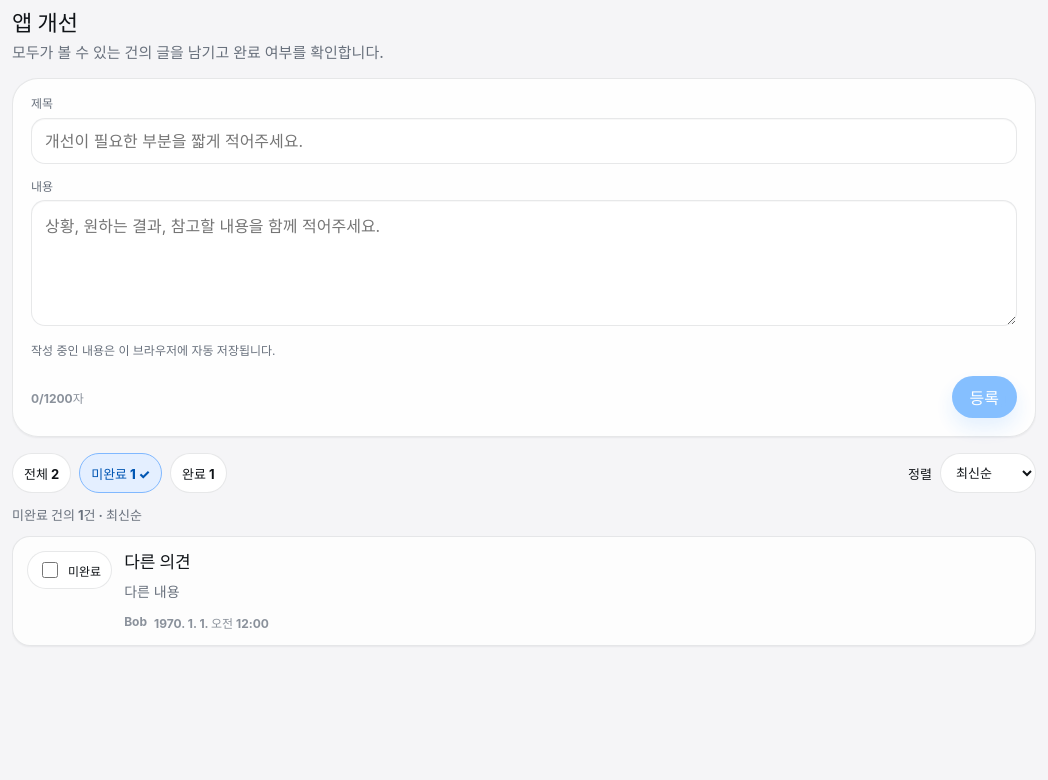
suggestion draft composer › keeps the draft after registration fails
Type "새 건의" into the field labelled "제목" at x=524, y=141, box [31,118,1017,164]
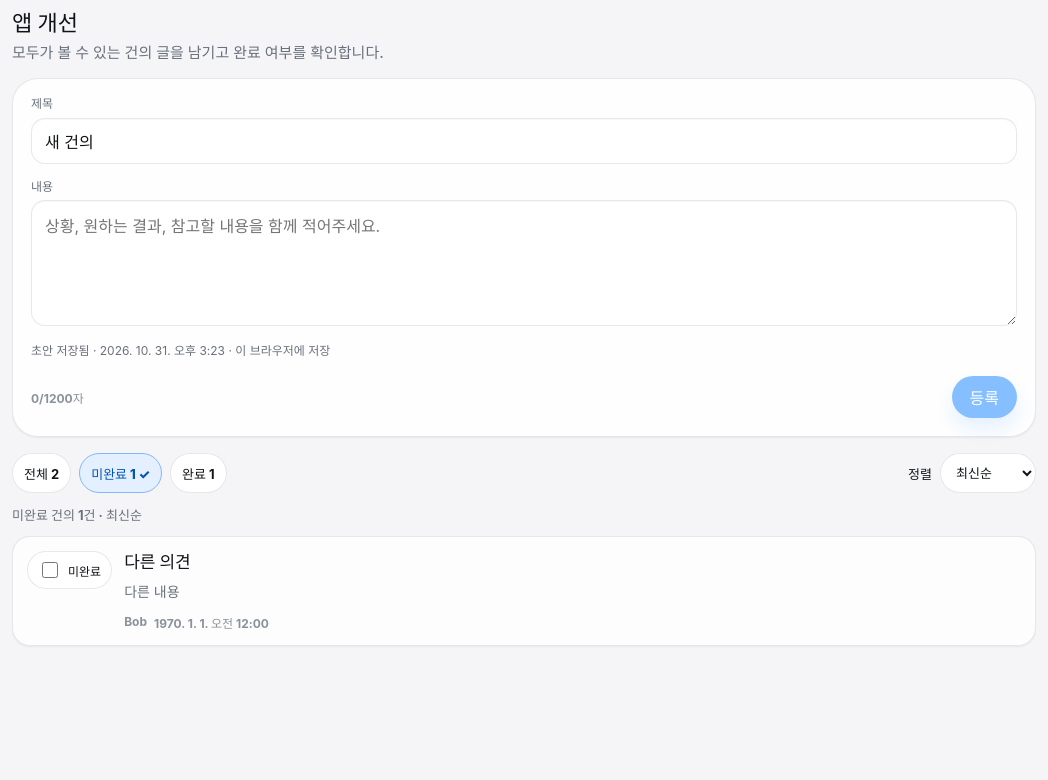
Type "새 내용" into the text box labelled "내용" at x=524, y=263, box [31,200,1017,326]
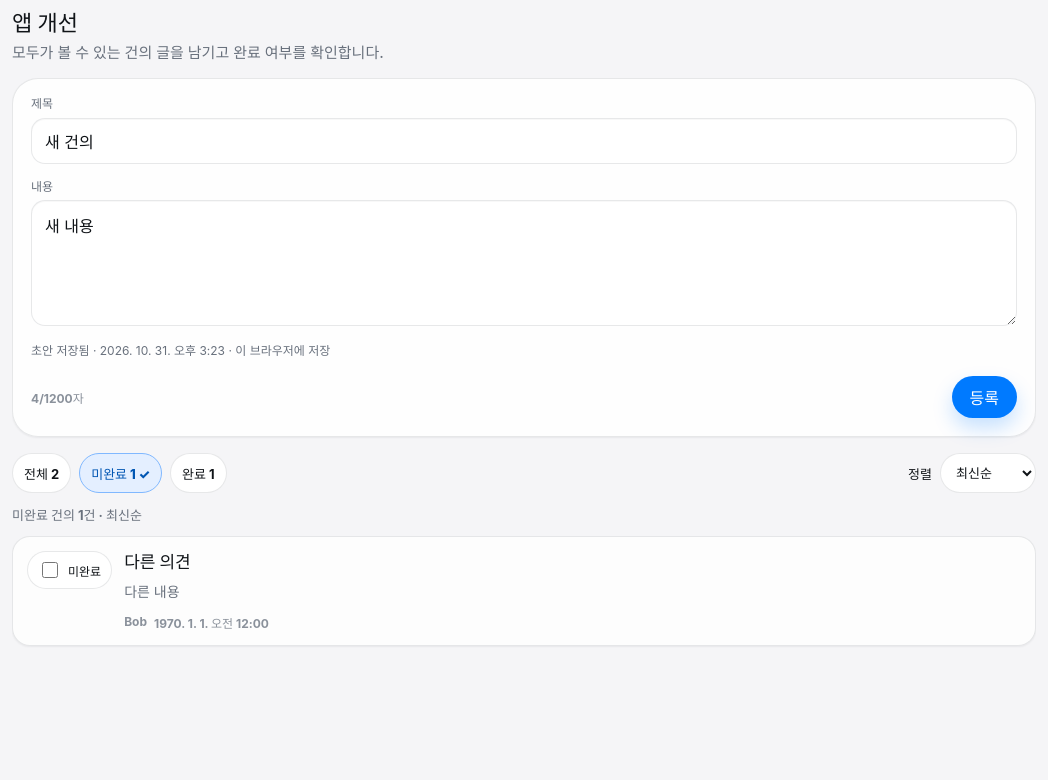
Submit the form named "건의 작성", box [12,78,1036,437]
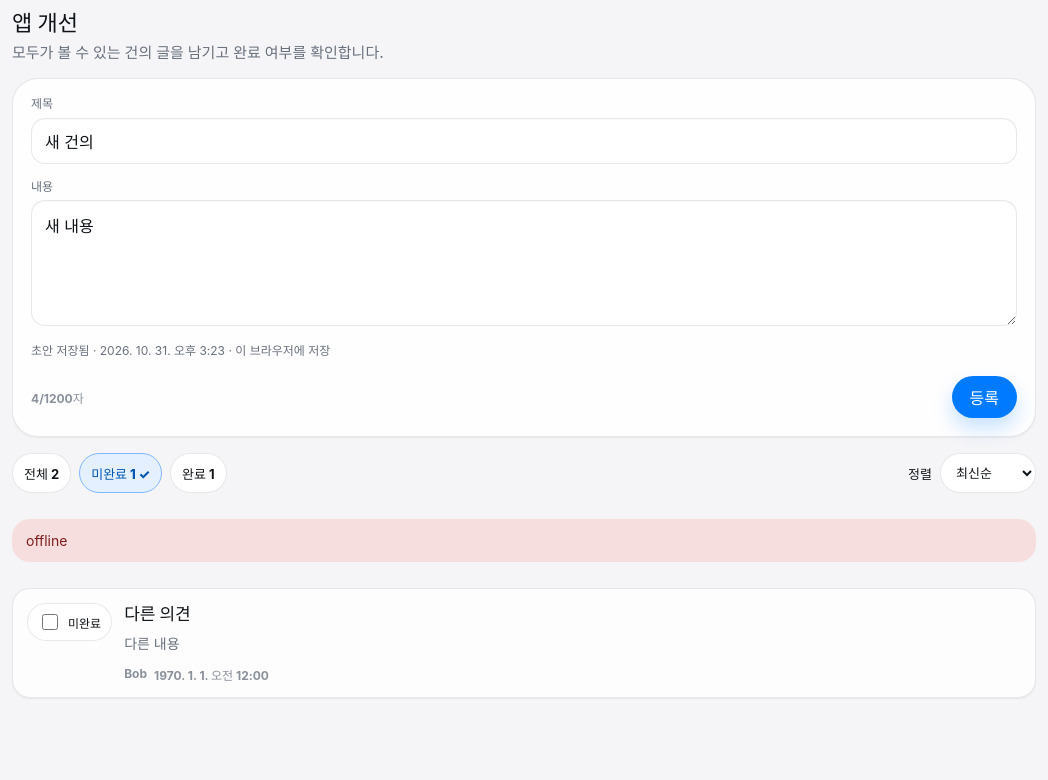
Expected: the message reads "offline", [26,532,67,549]
